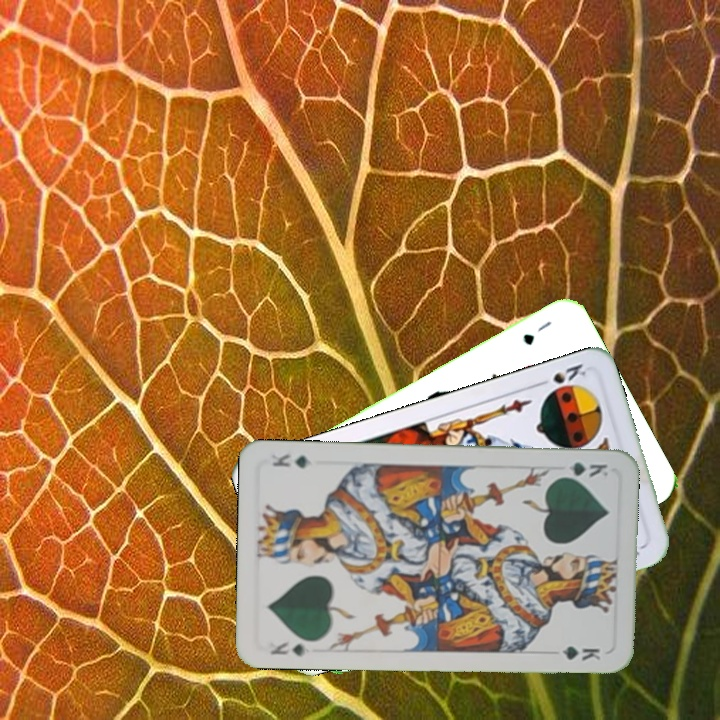GK: (554, 458, 611, 480), (266, 637, 312, 659)
GU: (518, 316, 554, 348)
SK: (532, 359, 589, 389)
